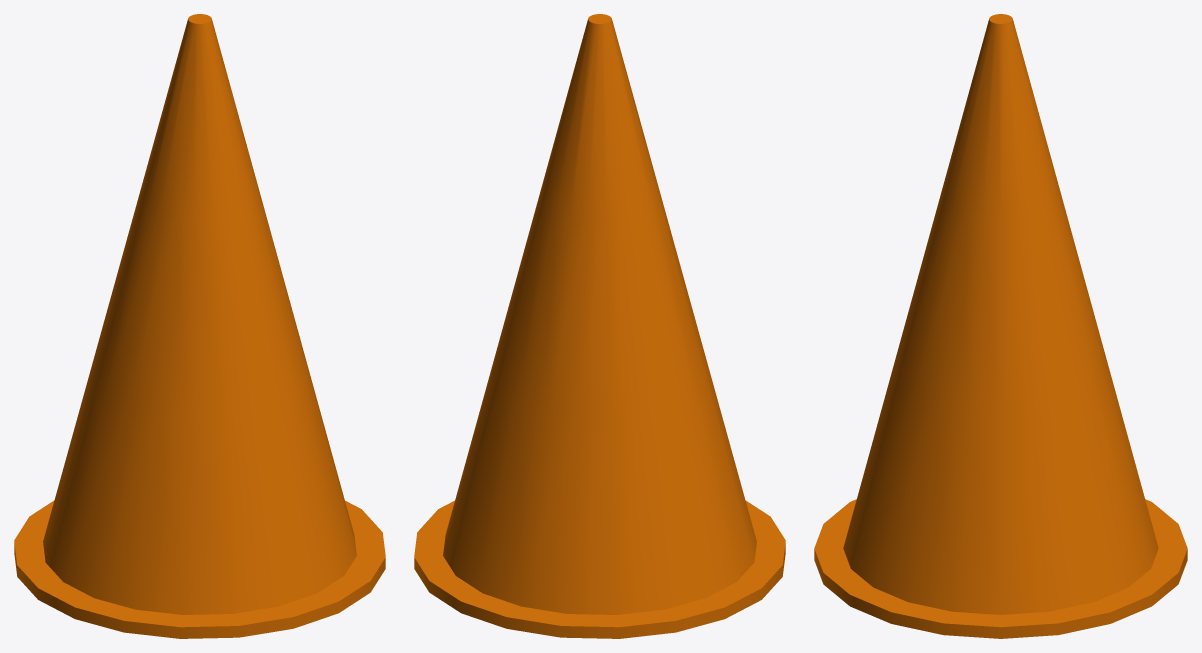
The model's file is column.FBX.
3 views of the same model, side by side, from view 1: azimuth 30°, elevation 25°; view 2: azimuth 150°, elevation 25°; view 3: azimuth 270°, elevation 25° (orthographic).
Parts seen in each view (by area): view 1: Column; view 2: Column; view 3: Column.
Boxes of the visible parts, x1=… form: Column: x1=14, y1=14, x2=385, y2=638; Column: x1=414, y1=14, x2=785, y2=638; Column: x1=814, y1=14, x2=1187, y2=638.
Bounding box in the file's own units: 44.16 × 44.16 × 70.6.
